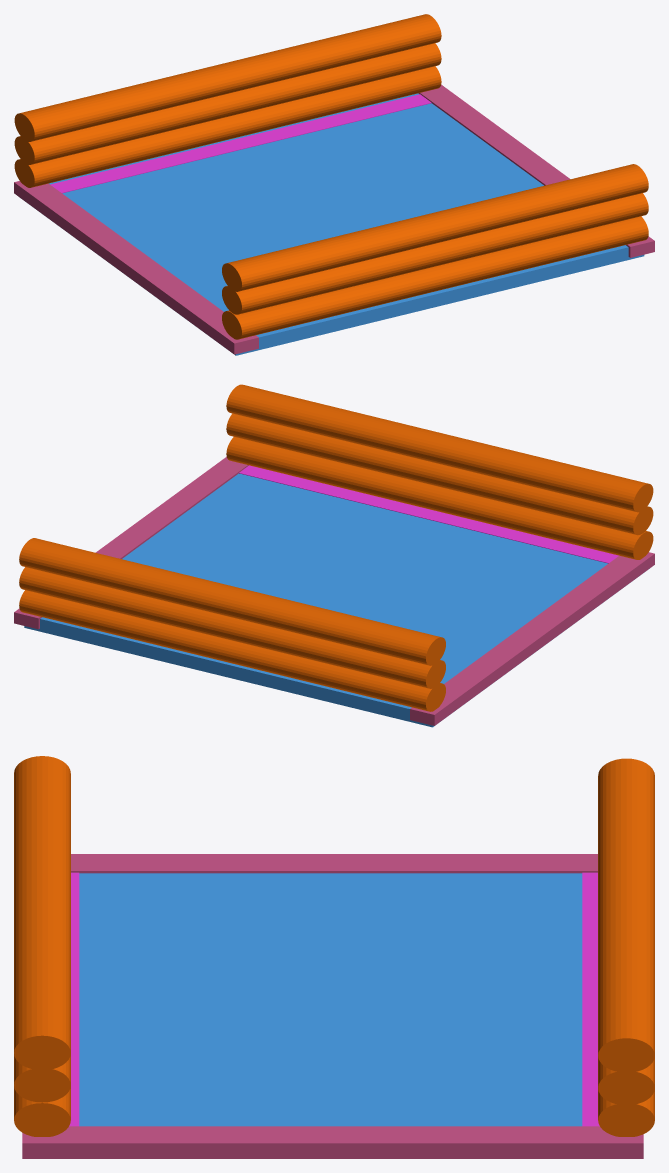
Rendered from floor.fbx.
3 renders of one model, top to bottom at view 1: azimuth 30°, elevation 25°; view 2: azimuth 150°, elevation 25°; view 3: azimuth 270°, elevation 25°, orthographic. The views are drawn at different scales.
Parts seen in each view (by area): view 1: Cube, Cylinder.003, Cylinder.004, Cylinder.006, Cylinder.002, Cylinder, Cylinder.001, Cube.004, Cube.002, Cube.003; view 2: Cube, Cylinder.003, Cylinder.004, Cylinder.006, Cylinder.002, Cylinder, Cylinder.001, Cube.004, Cube.001, Cube.003; view 3: Cube, Cube.003, Cylinder.003, Cylinder.004, Cube.004, Cube.002, Cube.001, Cylinder.006, Cylinder.001, Cylinder, Cylinder.002.
Boxes of the visible parts, left/top/right/bottom form: Cube: left=25, top=93, right=644, bottom=355; Cylinder.003: left=14, top=14, right=441, bottom=141; Cylinder.004: left=222, top=164, right=648, bottom=291; Cylinder.006: left=222, top=216, right=648, bottom=339; Cylinder.002: left=14, top=43, right=441, bottom=164; Cylinder: left=14, top=66, right=441, bottom=187; Cylinder.001: left=222, top=193, right=648, bottom=314; Cube.004: left=14, top=181, right=258, bottom=354; Cube.002: left=50, top=94, right=431, bottom=193; Cube.003: left=418, top=84, right=654, bottom=257; Cube: left=24, top=473, right=649, bottom=727; Cylinder.003: left=19, top=538, right=445, bottom=665; Cylinder.004: left=226, top=384, right=653, bottom=512; Cylinder.006: left=226, top=437, right=653, bottom=559; Cylinder.002: left=19, top=567, right=445, bottom=688; Cylinder: left=19, top=590, right=445, bottom=711; Cylinder.001: left=226, top=413, right=653, bottom=535; Cube.004: left=410, top=552, right=654, bottom=725; Cube.001: left=239, top=465, right=618, bottom=563; Cube.003: left=14, top=457, right=248, bottom=629; Cube: left=79, top=873, right=582, bottom=1126; Cube.003: left=22, top=1126, right=643, bottom=1158; Cylinder.003: left=598, top=758, right=654, bottom=1071; Cylinder.004: left=14, top=756, right=70, bottom=1069; Cube.004: left=71, top=854, right=597, bottom=873; Cube.002: left=582, top=872, right=599, bottom=1126; Cube.001: left=69, top=872, right=79, bottom=1126; Cylinder.006: left=14, top=1085, right=70, bottom=1136; Cylinder.001: left=14, top=1053, right=70, bottom=1102; Cylinder: left=598, top=1088, right=654, bottom=1136; Cylinder.002: left=598, top=1056, right=654, bottom=1104.
Size of the model in its own units: 3420 by 671 by 3203.
